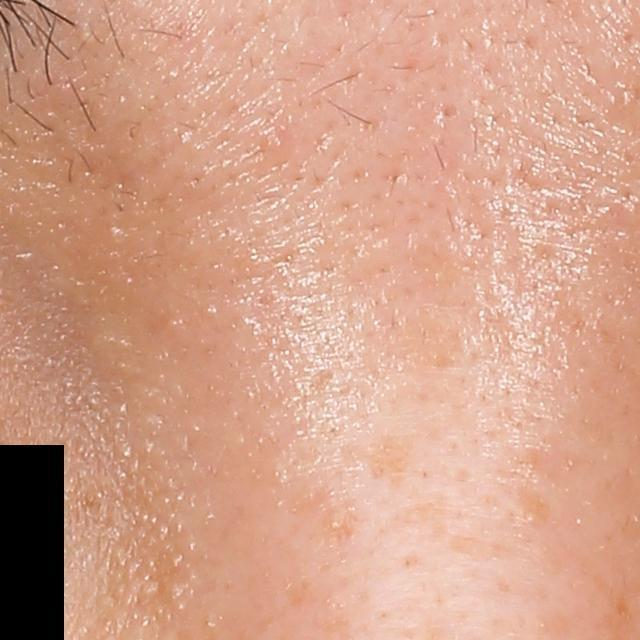melasma: (340, 433, 417, 495), (499, 479, 556, 524)
